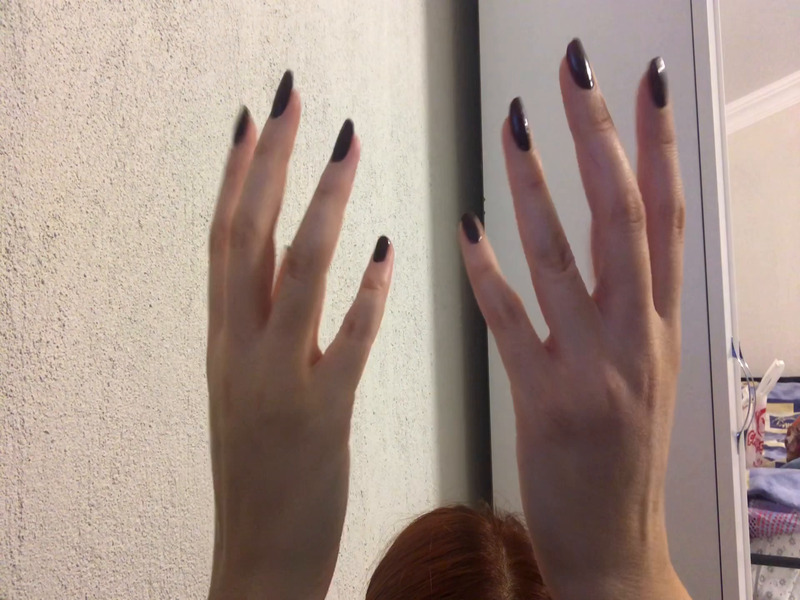hand: (456, 36, 702, 541), (194, 66, 395, 558)
